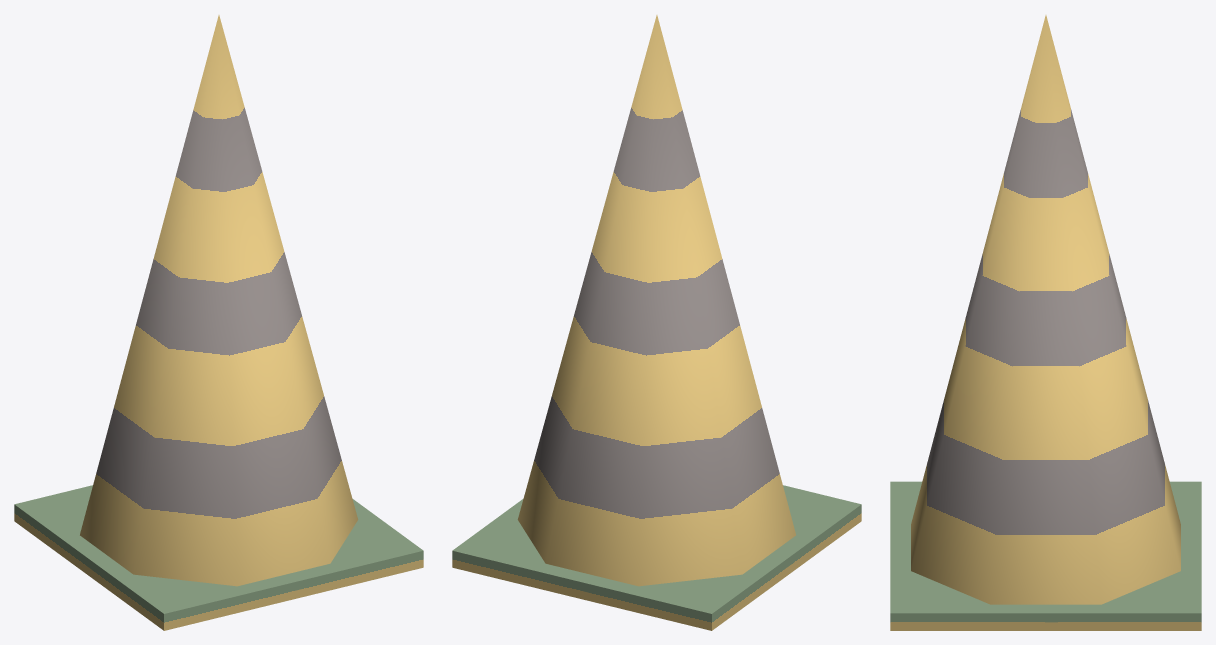
The model's file is 0371_Super_Pylon.glb.
The picture shows the model from 3 angles, left to right: view 1: azimuth 30°, elevation 25°; view 2: azimuth 150°, elevation 25°; view 3: azimuth 270°, elevation 25°; orthographic projection. The views are drawn at different scales.
Visible parts, largest first — view 1: part_0; view 2: part_0; view 3: part_0.
Boxes of the visible parts, <box> form: part_0: <box>14,15,423,630</box>; part_0: <box>452,15,861,630</box>; part_0: <box>890,15,1201,630</box>.
Bounding box in the file's own units: 15.36 × 30 × 15.36.
Materials: 1 (1 with a texture image).
